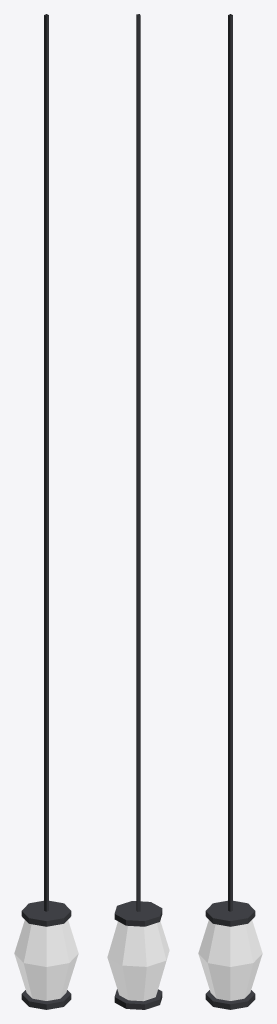
Rendered from keel_lantern_8m.glb.
3 renders of one model, left to right at view 1: azimuth 90°, elevation 25°; view 2: azimuth 150°, elevation 25°; view 3: azimuth 270°, elevation 25°, orthographic.
Parts seen in each view (by area): view 1: keel_lantern_8m; view 2: keel_lantern_8m; view 3: keel_lantern_8m.
Part boxes in pixels (x1,y1,x2,y2): keel_lantern_8m: [14, 14, 78, 1009]; keel_lantern_8m: [107, 14, 169, 1009]; keel_lantern_8m: [198, 14, 262, 1009].
Size of the model in its own units: 0.52 by 8.76 by 0.52.
Materials: 2 (1 with a texture image).
